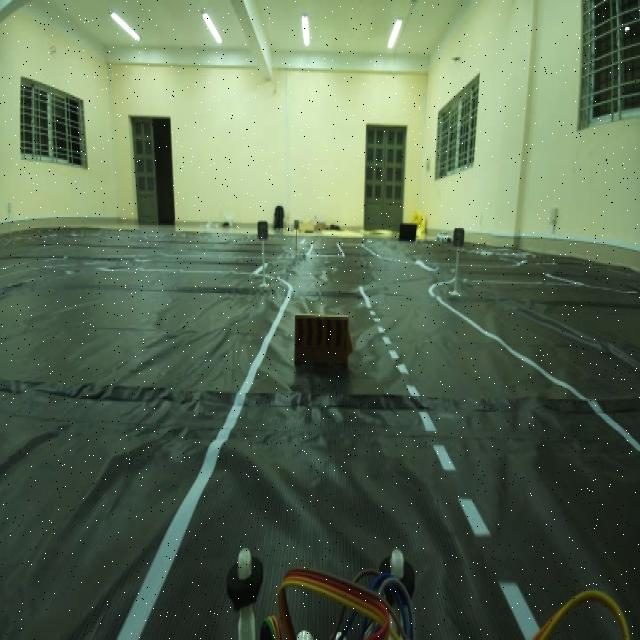roadblock: (288, 307, 356, 374)
